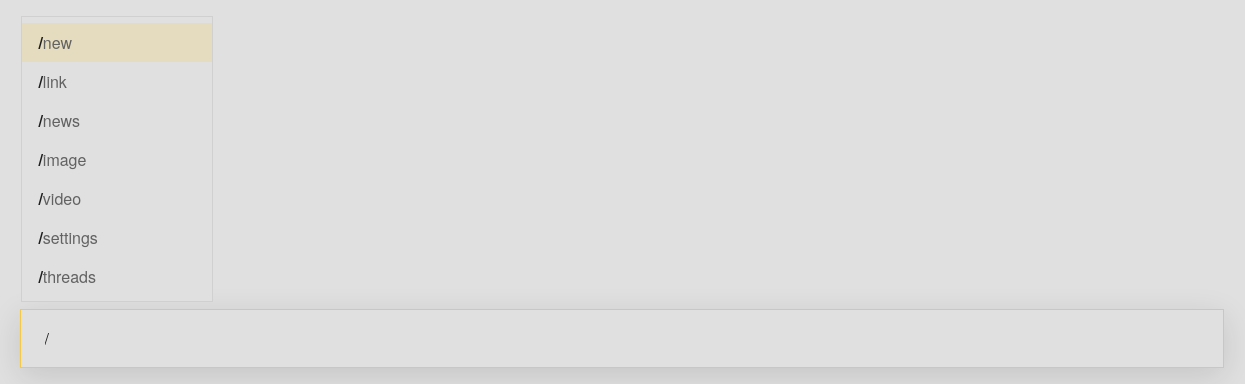
Test case: v3 product boxes › uses click to autocomplete without submitting and spaces link commands
This screenshot has width=1245, height=384.
Click the option "/link" at (53, 81), box [38,70,67,93]
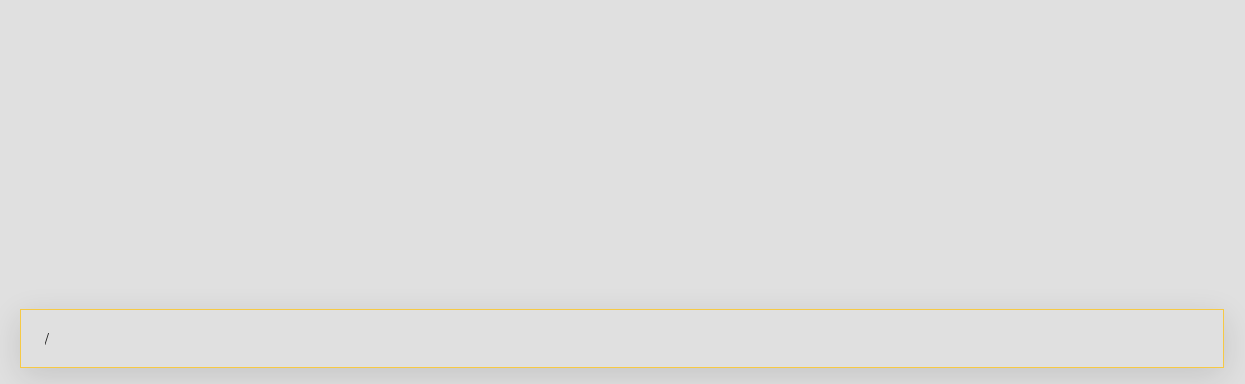
Now the list is gone
